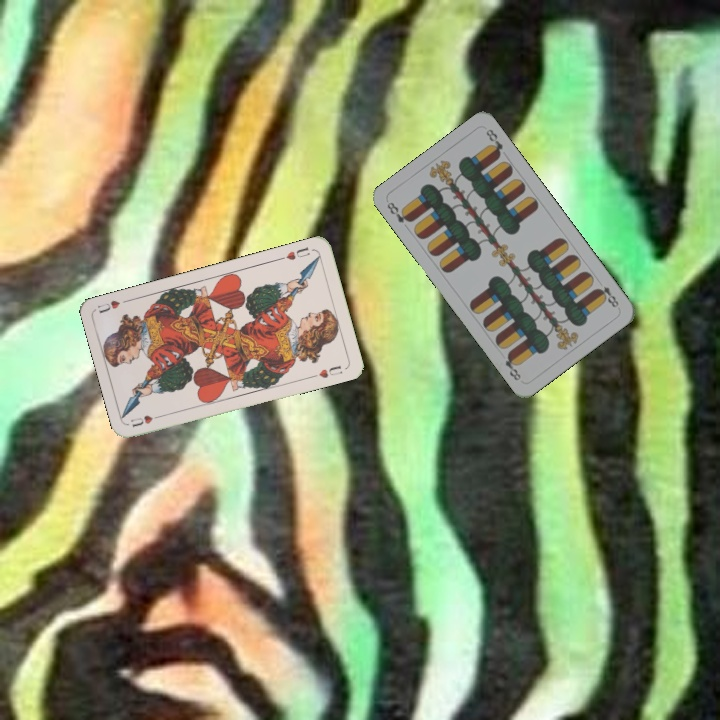E8: (383, 198, 415, 226), (592, 282, 621, 310)
HU: (127, 411, 166, 430), (282, 243, 313, 263)
